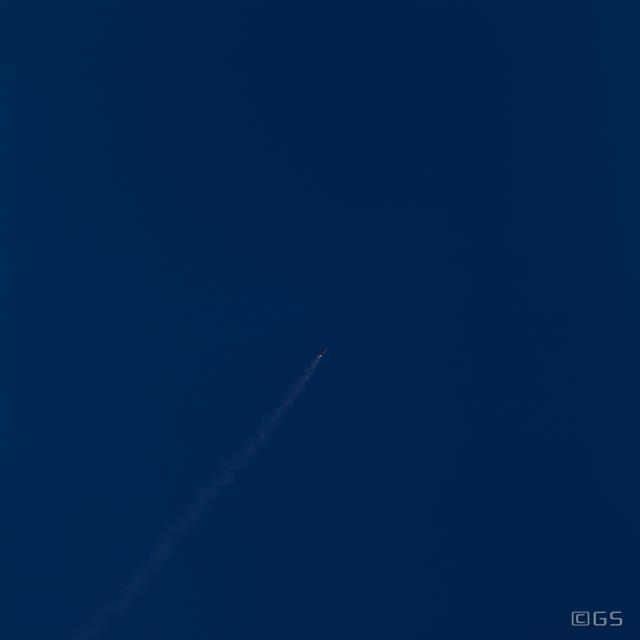Rocket: (316, 347, 328, 358)
